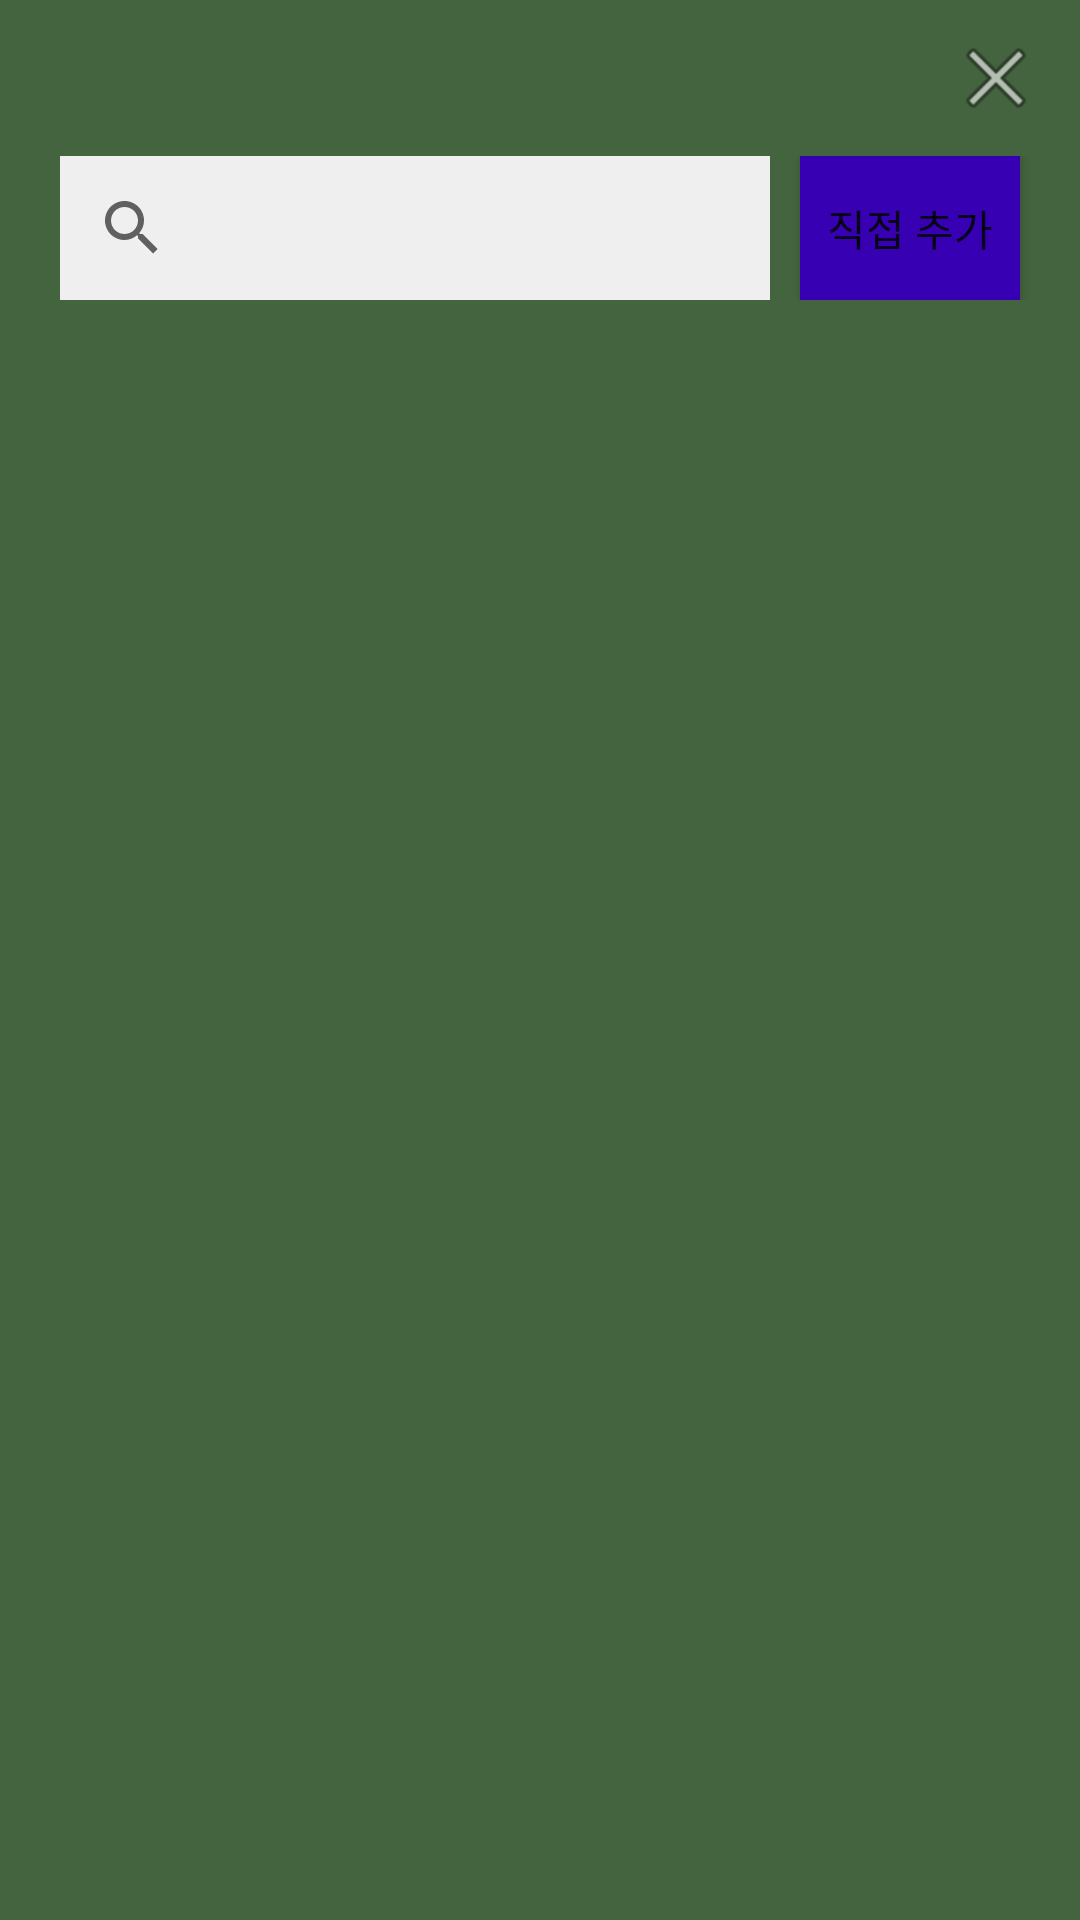

Icons on this 1080 x 1920 Android screen, each with the point to tap as point (x, y):
close clear cancel: point (996, 78)
